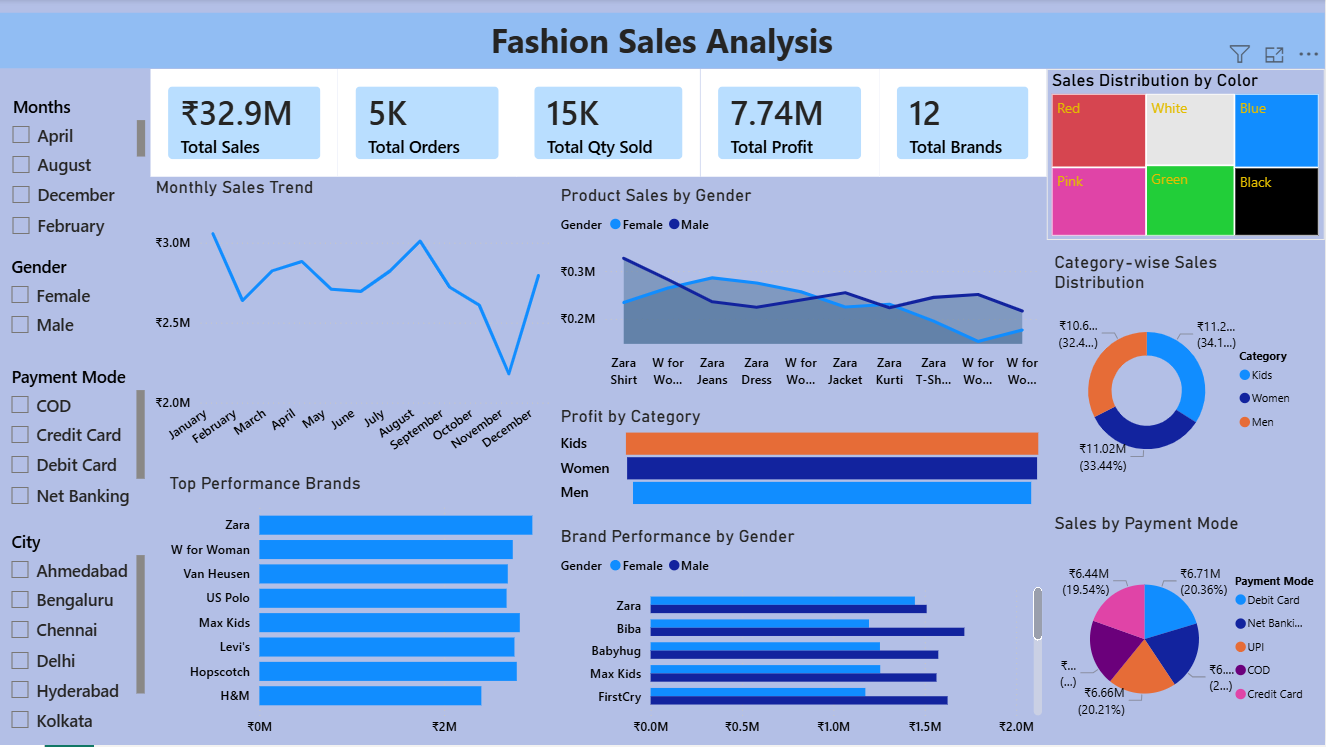

The dashboard page shown, as its layout file describes it:
{"tool":"powerbi","page":{"name":"Page 1","canvas":[1280,720],"ordinal":0},"visuals":[{"type":"lineChart","title":"Monthly Sales Trend","fields":{"Category":["Fashion_Sales.Order Date.Variation.Date Hierarchy.Month"],"Y":["Sum(Fashion_Sales.Sales Amount)"]},"box":[146.8,171.5,391.1,285.4],"z":0},{"type":"donutChart","title":" Category-wise Sales Distribution","fields":{"Category":["Fashion_Sales.Category"],"Y":["Sum(Fashion_Sales.Sales Amount)"]},"box":[1014.1,244.3,252.5,230.5],"z":1000},{"type":"pieChart","title":"Sales by Payment Mode","fields":{"Category":["Fashion_Sales.Payment Mode"],"Y":["Sum(Fashion_Sales.Sales Amount)"]},"box":[1014.1,495.4,266.2,225],"z":2000},{"type":"clusteredBarChart","title":"Top Performance Brands","fields":{"Category":["Fashion_Sales.Brand"],"Y":["Sum(Fashion_Sales.Sales Amount)"]},"box":[160.5,456.9,377.4,263.5],"z":3000},{"type":"cardVisual","fields":{"Data":["Fashion_Sales.Total Orders"]},"box":[328,67.2,172.9,104.3],"z":4000},{"type":"cardVisual","fields":{"Data":["Fashion_Sales.Total Profit"]},"box":[677.9,67.2,172.9,104.3],"z":5000},{"type":"cardVisual","fields":{"Data":["Fashion_Sales.Total Qty Sold"]},"box":[500.9,67.2,177,104.3],"z":6000},{"type":"cardVisual","fields":{"Data":["Fashion_Sales.Total Sales"]},"box":[146.8,67.2,181.1,104.3],"z":7000},{"type":"textbox","box":[1.4,13.7,1278.9,53.5],"z":8000},{"type":"slicer","fields":{"Values":["Fashion_Sales.City"]},"box":[0,507.7,146.8,209.9],"z":9000},{"type":"slicer","fields":{"Values":["Fashion_Sales.Gender"]},"box":[0,242.9,146.8,94.7],"z":10000},{"type":"slicer","fields":{"Values":["Fashion_Sales.Months"]},"box":[1.4,87.8,145.5,145.5],"z":11000},{"type":"slicer","fields":{"Values":["Fashion_Sales.Payment Mode"]},"box":[0,348.5,146.8,145.5],"z":12000},{"type":"cardVisual","fields":{"Data":["Fashion_Sales.Total Brands"]},"box":[850.8,67.2,161.9,104.3],"z":13000},{"type":"clusteredBarChart","title":"Brand Performance by Gender","fields":{"Category":["Fashion_Sales.Brand"],"Y":["Sum(Fashion_Sales.Sales Amount)"],"Series":["Fashion_Sales.Gender"]},"box":[537.9,507.7,474.8,212.7],"z":14000},{"type":"funnel","title":" Profit by Category","fields":{"Category":["Fashion_Sales.Category"],"Y":["Sum(Fashion_Sales.Profit)"]},"box":[537.9,392.5,476.2,102.9],"z":15000},{"type":"treemap","title":"Sales Distribution by Color","fields":{"Group":["Fashion_Sales.Color"],"Values":["Sum(Fashion_Sales.Sales Amount)"]},"box":[1012.7,67.2,267.6,166],"z":16000},{"type":"areaChart","title":"Product Sales by Gender","fields":{"Category":["Fashion_Sales.Product_Name"],"Series":["Fashion_Sales.Gender"],"Y":["Sum(Fashion_Sales.Sales Amount)"]},"box":[537.9,178.4,474.8,204.5],"z":17000}]}

Visuals, with their boxes in screenshot pixels (x1, y1, x2, y2), scaled from the page's 1280x720 canvas onto the 1326x747 screenshot:
"Monthly Sales Trend" lineChart: select_region(152, 178, 557, 474)
" Category-wise Sales Distribution" donutChart: select_region(1051, 253, 1312, 493)
"Sales by Payment Mode" pieChart: select_region(1051, 514, 1325, 746)
"Top Performance Brands" clusteredBarChart: select_region(166, 474, 557, 746)
cardVisual - Fashion_Sales.Total Orders: select_region(340, 70, 519, 178)
cardVisual - Fashion_Sales.Total Profit: select_region(702, 70, 881, 178)
cardVisual - Fashion_Sales.Total Qty Sold: select_region(519, 70, 702, 178)
cardVisual - Fashion_Sales.Total Sales: select_region(152, 70, 340, 178)
textbox: select_region(1, 14, 1325, 70)
slicer - Fashion_Sales.City: select_region(0, 527, 152, 745)
slicer - Fashion_Sales.Gender: select_region(0, 252, 152, 350)
slicer - Fashion_Sales.Months: select_region(1, 91, 152, 242)
slicer - Fashion_Sales.Payment Mode: select_region(0, 362, 152, 513)
cardVisual - Fashion_Sales.Total Brands: select_region(881, 70, 1049, 178)
"Brand Performance by Gender" clusteredBarChart: select_region(557, 527, 1049, 746)
" Profit by Category" funnel: select_region(557, 407, 1051, 514)
"Sales Distribution by Color" treemap: select_region(1049, 70, 1325, 242)
"Product Sales by Gender" areaChart: select_region(557, 185, 1049, 397)
